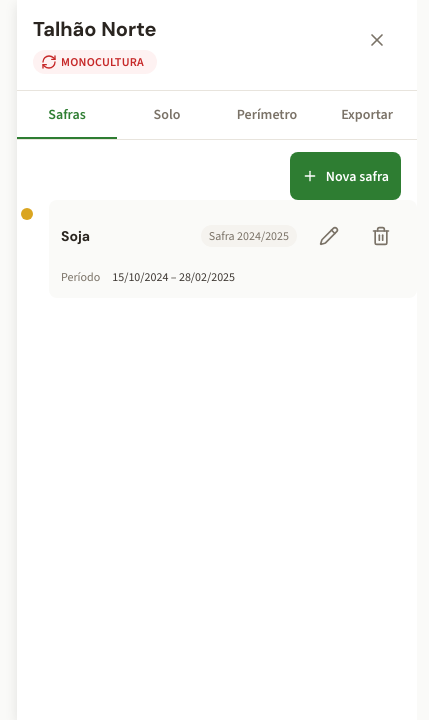
it: PlotHistoryPanel › should switch to soil tab on click
Click the tab "Solo". click: (167, 115)
box: [117, 91, 217, 139]
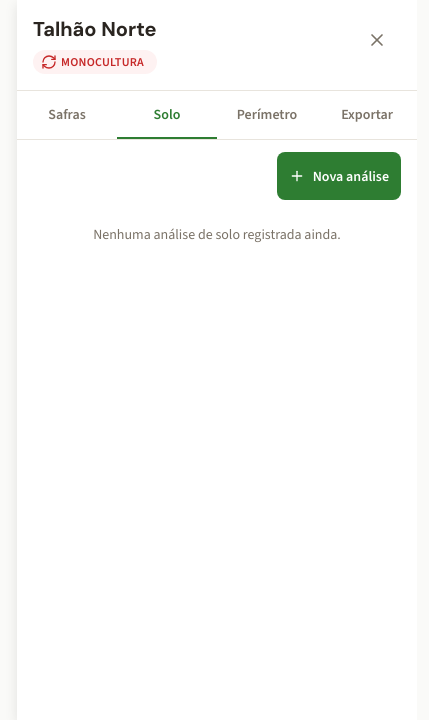
Expected: the text "Nenhuma análise de solo registrada ainda." is shown, [93, 225, 341, 244]
